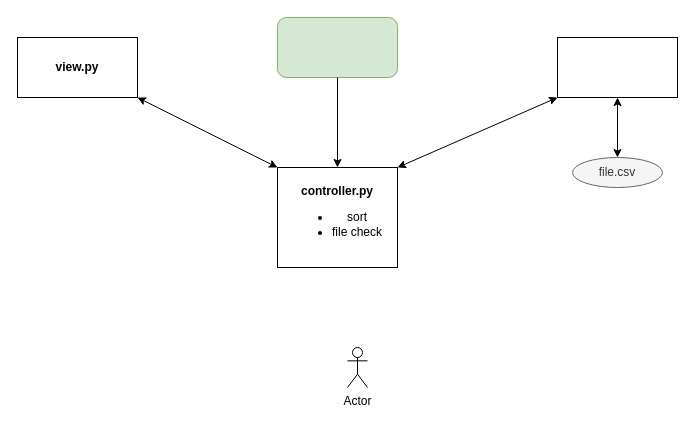
Image size: 695x426. Some labels were removed from this diagram. Each missing label, with the centre of its shape:
model.py reed/write: point (617, 67)
START start.py: point (337, 47)
